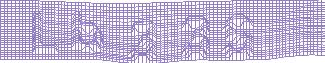3: (181, 13, 211, 63), (127, 20, 159, 63)
L: (30, 10, 62, 56)
S: (221, 11, 255, 63)
b: (70, 9, 105, 54)
